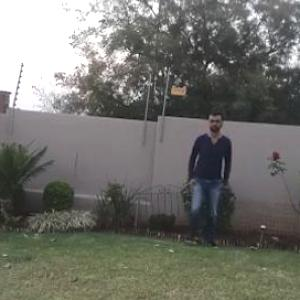follow: (181, 107, 232, 250)
